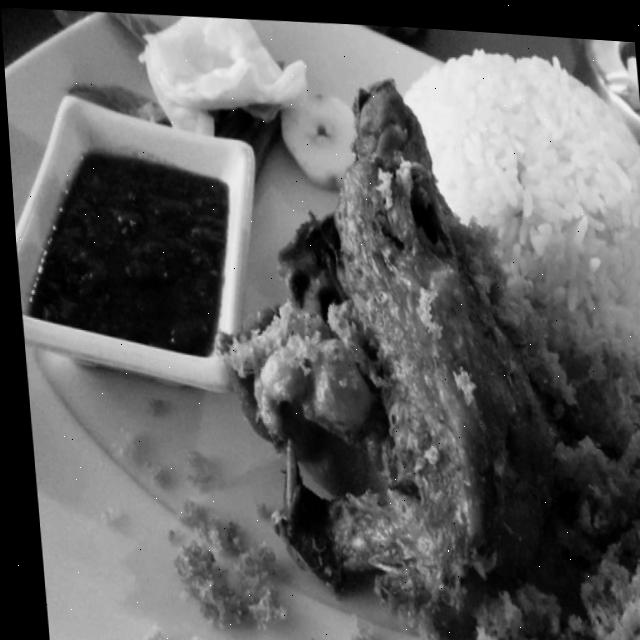鸡肉料理 含炸鸡: (10, 8, 640, 640)
